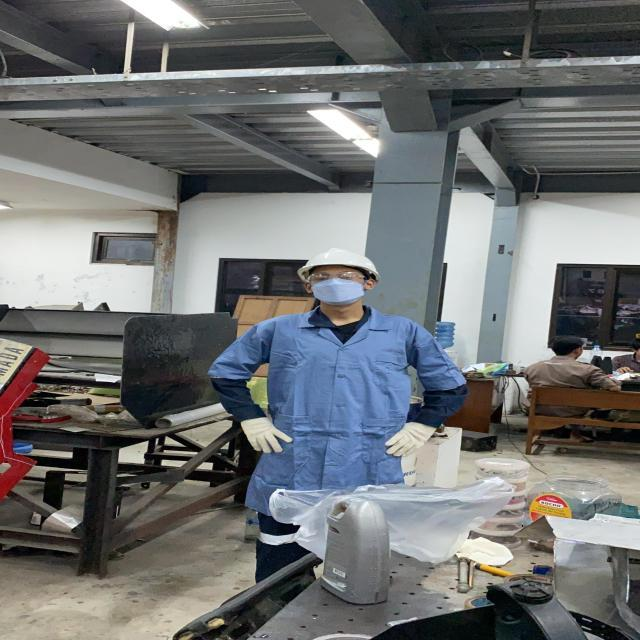glasses: (299, 270, 372, 286)
